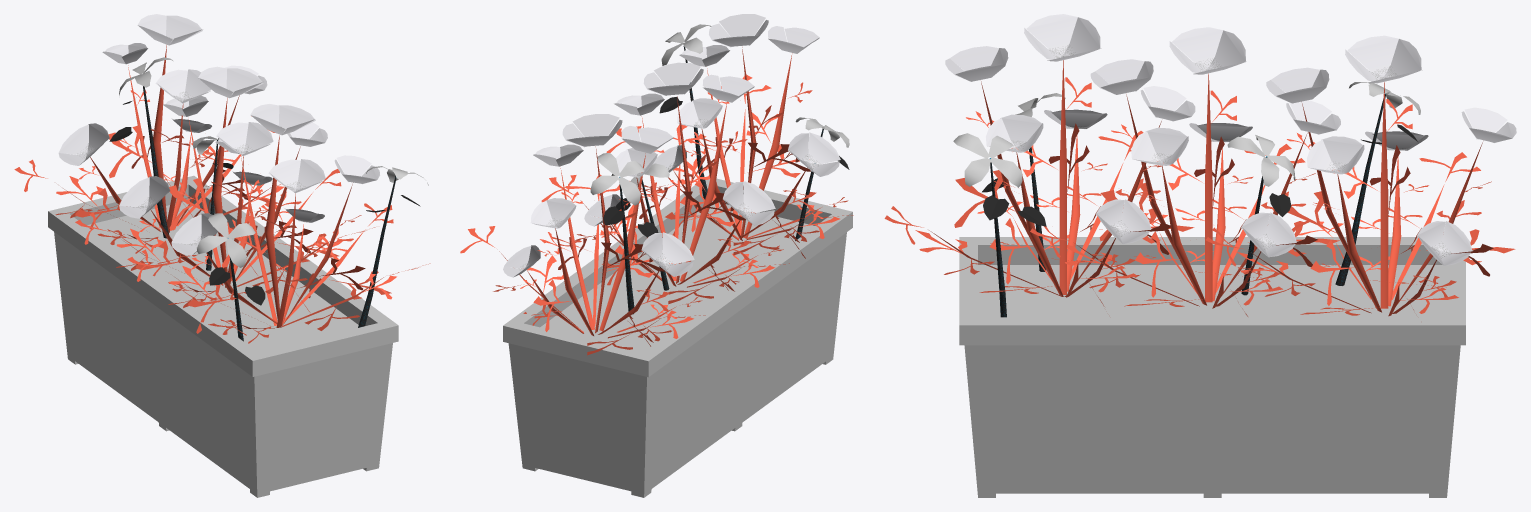
File: flowers.obj
The picture shows the model from 3 angles, left to right: view 1: azimuth 30°, elevation 25°; view 2: azimuth 150°, elevation 25°; view 3: azimuth 270°, elevation 25°; orthographic projection. The views are drawn at different scales.
Parts seen in each view (by area): view 1: mesh13_mesh13-geometry, mesh1_mesh1-geometry, mesh2_mesh2-geometry, mesh3_mesh3-geometry, mesh8_mesh8-geometry, mesh4_mesh4-geometry, mesh5_mesh5-geometry, mesh6_mesh6-geometry; view 2: mesh13_mesh13-geometry, mesh1_mesh1-geometry, mesh2_mesh2-geometry, mesh3_mesh3-geometry, mesh8_mesh8-geometry, mesh4_mesh4-geometry, mesh5_mesh5-geometry, mesh6_mesh6-geometry; view 3: mesh13_mesh13-geometry, mesh1_mesh1-geometry, mesh2_mesh2-geometry, mesh3_mesh3-geometry, mesh8_mesh8-geometry, mesh4_mesh4-geometry, mesh5_mesh5-geometry, mesh6_mesh6-geometry.
Part boxes in pixels (box(x1,y1,x2,y2)): mesh13_mesh13-geometry: box(48, 175, 398, 497); mesh1_mesh1-geometry: box(58, 14, 379, 255); mesh2_mesh2-geometry: box(14, 90, 430, 343); mesh3_mesh3-geometry: box(90, 45, 352, 327); mesh8_mesh8-geometry: box(119, 57, 428, 267); mesh4_mesh4-geometry: box(63, 154, 383, 328); mesh5_mesh5-geometry: box(143, 86, 396, 341); mesh6_mesh6-geometry: box(109, 101, 420, 305); mesh13_mesh13-geometry: box(503, 176, 852, 497); mesh1_mesh1-geometry: box(503, 14, 840, 277); mesh2_mesh2-geometry: box(460, 74, 853, 355); mesh3_mesh3-geometry: box(527, 47, 807, 335); mesh8_mesh8-geometry: box(590, 24, 849, 205); mesh4_mesh4-geometry: box(499, 109, 821, 338); mesh5_mesh5-geometry: box(619, 46, 823, 314); mesh6_mesh6-geometry: box(603, 97, 849, 237); mesh13_mesh13-geometry: box(959, 237, 1465, 497); mesh1_mesh1-geometry: box(945, 14, 1516, 265); mesh2_mesh2-geometry: box(884, 77, 1515, 316); mesh3_mesh3-geometry: box(981, 60, 1482, 313); mesh8_mesh8-geometry: box(953, 82, 1420, 187); mesh4_mesh4-geometry: box(929, 163, 1444, 316); mesh5_mesh5-geometry: box(989, 94, 1385, 317); mesh6_mesh6-geometry: box(982, 124, 1417, 226).
Size of the model in its own units: 0.4317 by 0.5421 by 0.7209.
